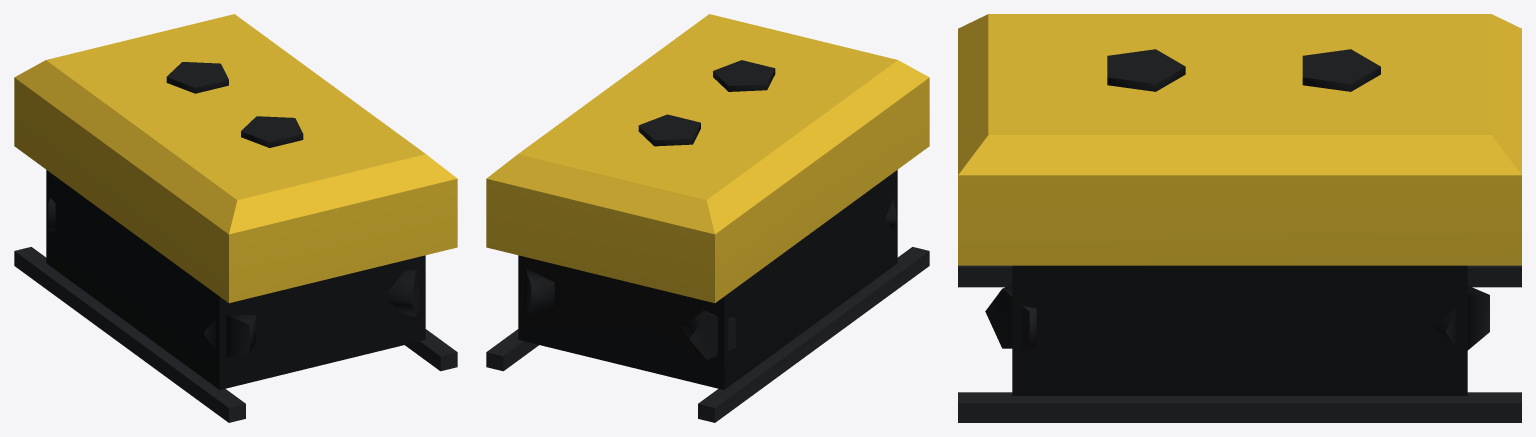
Rendered from rov_LOD1.glb.
The picture shows the model from 3 angles, left to right: view 1: azimuth 30°, elevation 25°; view 2: azimuth 150°, elevation 25°; view 3: azimuth 270°, elevation 25°; orthographic projection. The views are drawn at different scales.
Parts seen in each view (by area): view 1: Hull, Rubber; view 2: Hull, Rubber; view 3: Hull, Rubber.
Boxes of the visible parts, x1,y1,x2,y2 form: Hull: (14, 14, 457, 303); Rubber: (14, 62, 457, 422); Hull: (486, 14, 929, 303); Rubber: (486, 60, 929, 422); Hull: (958, 14, 1521, 265); Rubber: (958, 49, 1521, 422).
Bounding box in the file's own units: 1.6 × 1.44 × 2.6.
